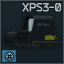EOTech XPS3-0 holographic sight: (0, 0, 64, 64)
